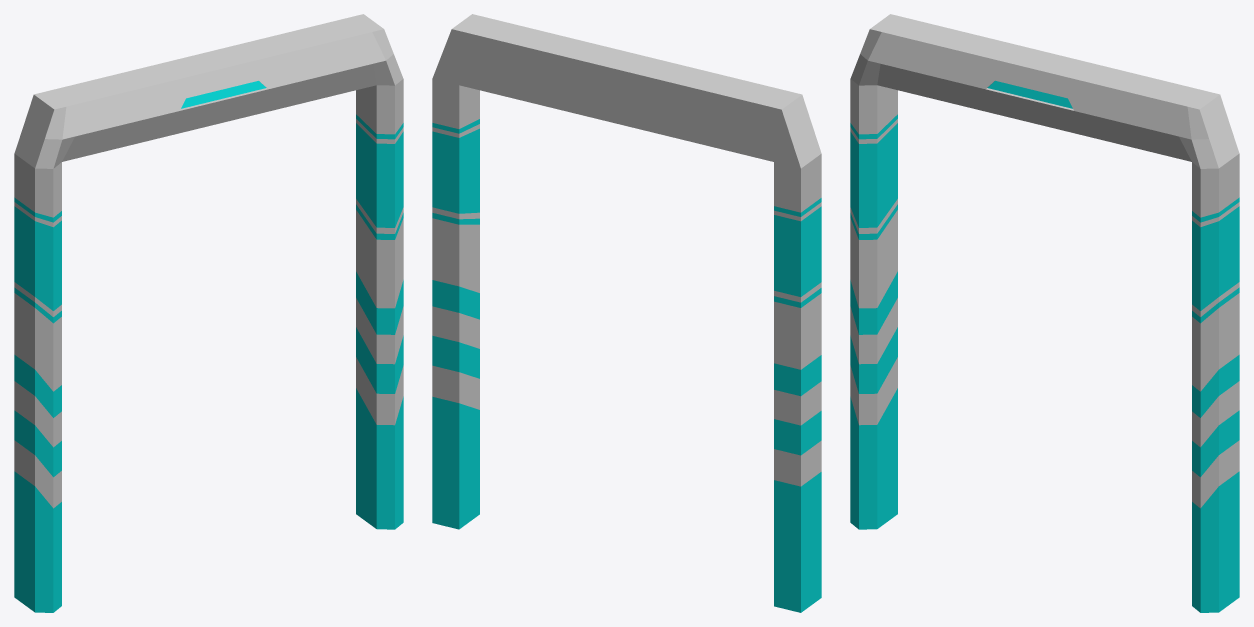
The model's file is DoorFrame.fbx.
3 views of the same model, side by side, from view 1: azimuth 30°, elevation 25°; view 2: azimuth 150°, elevation 25°; view 3: azimuth 330°, elevation 25° (orthographic).
Parts seen in each view (by area): view 1: Cube.001; view 2: Cube.001; view 3: Cube.001.
Part boxes in pixels (x1,y1,x2,y2): Cube.001: (14, 14, 403, 612); Cube.001: (432, 14, 821, 612); Cube.001: (850, 14, 1239, 612).
Bounding box in the file's own units: 1419 × 1835 × 171.
